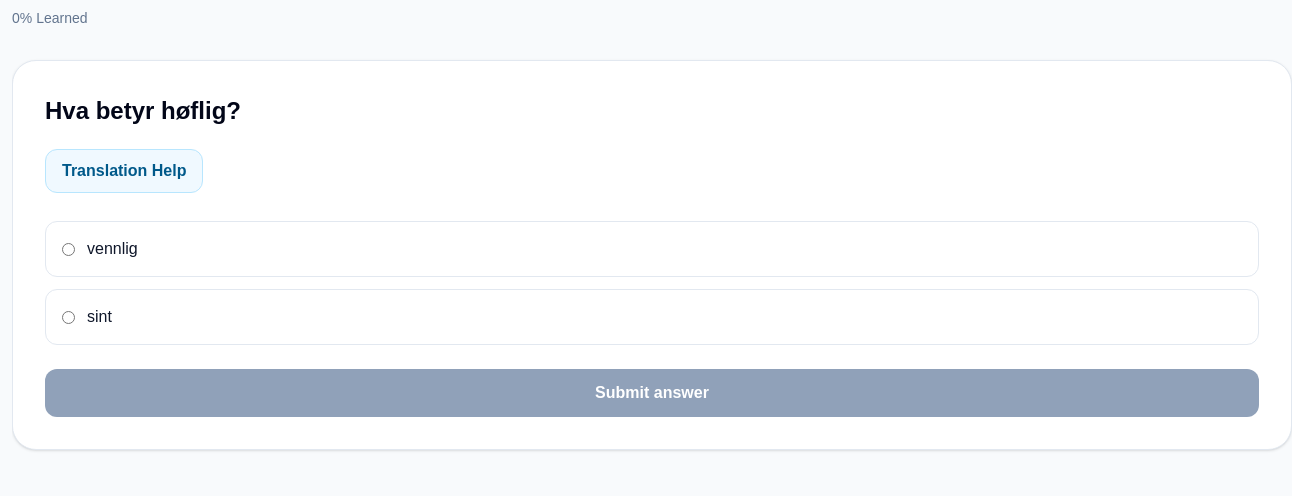
Test: Quiz Learned Milestone › does not announce streak 0 → 1 (correct, Translation Help: false)
Click the radio button labelled "vennlig".
click(68, 249)  # box [62,242,75,256]
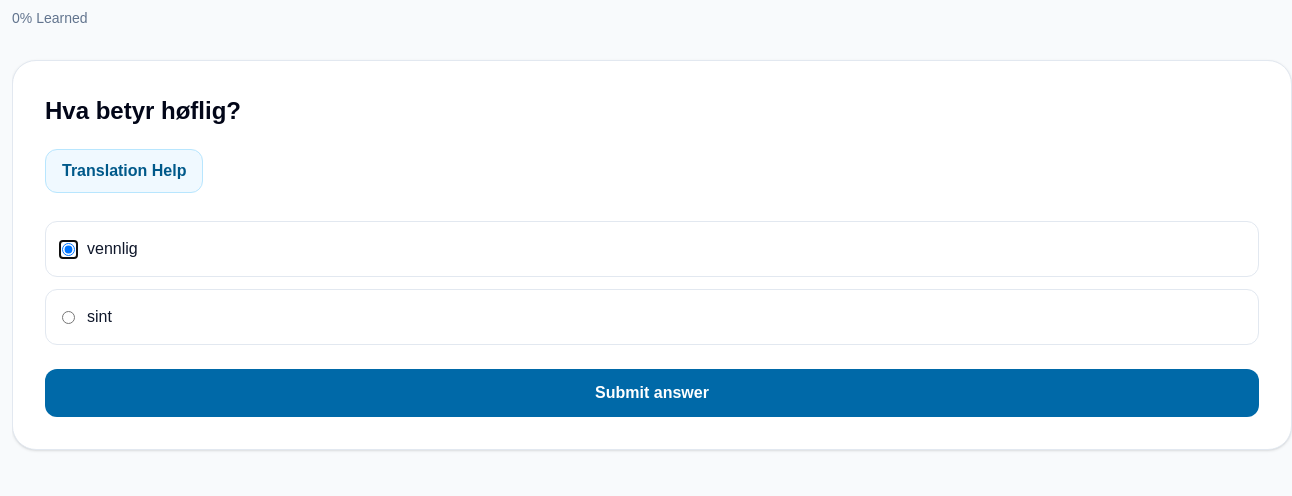
Click the button "Submit answer".
click(652, 393)  # box [45,369,1259,417]
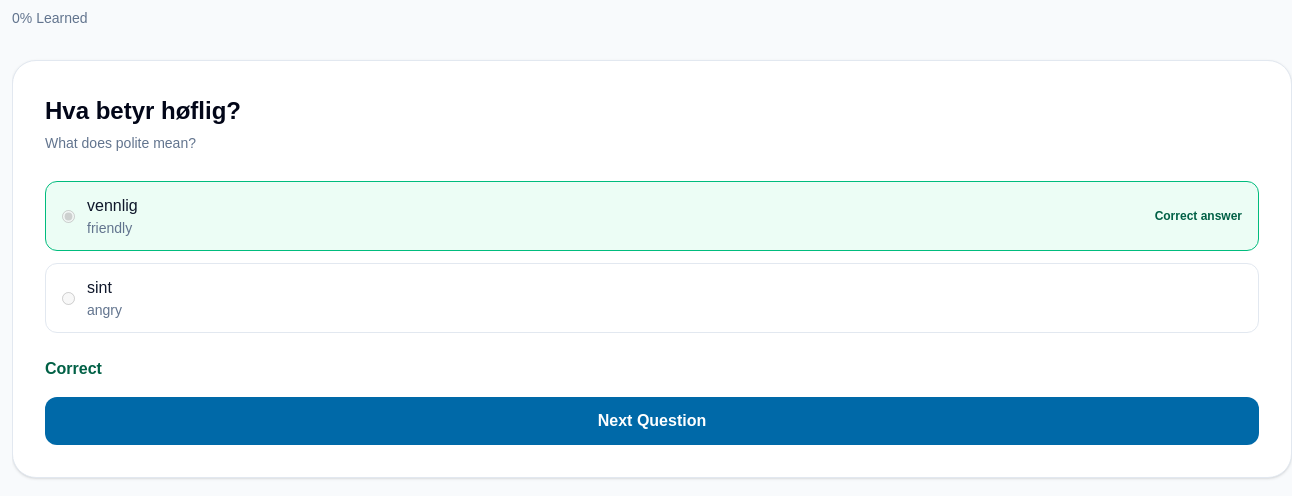
Now the button "Next Question" is shown, box [45,397,1259,445]
